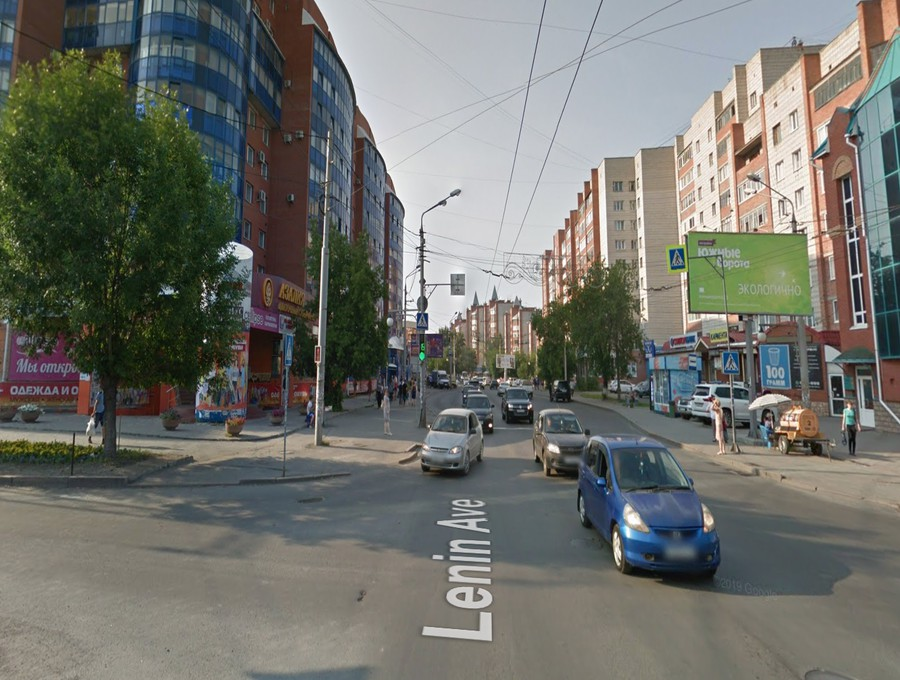Traffic Light-red: (313, 348, 323, 364)
